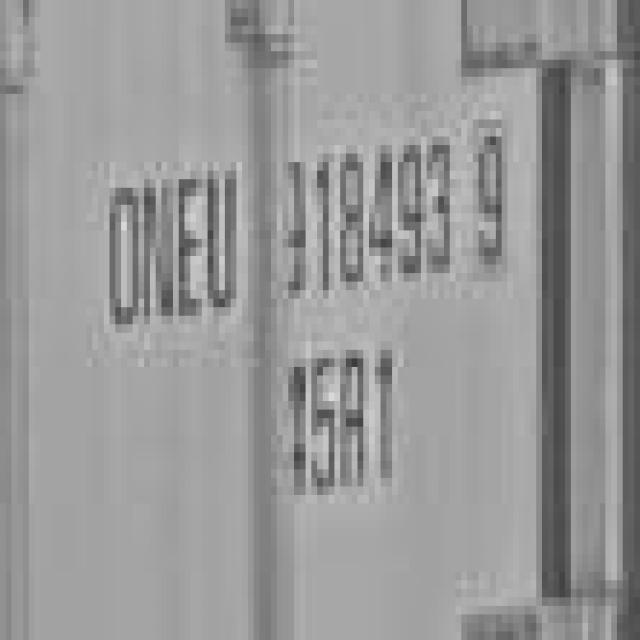dv: (463, 112, 515, 280)
owner: (90, 146, 244, 329)
serial: (275, 125, 455, 306)
size: (276, 334, 414, 509)
